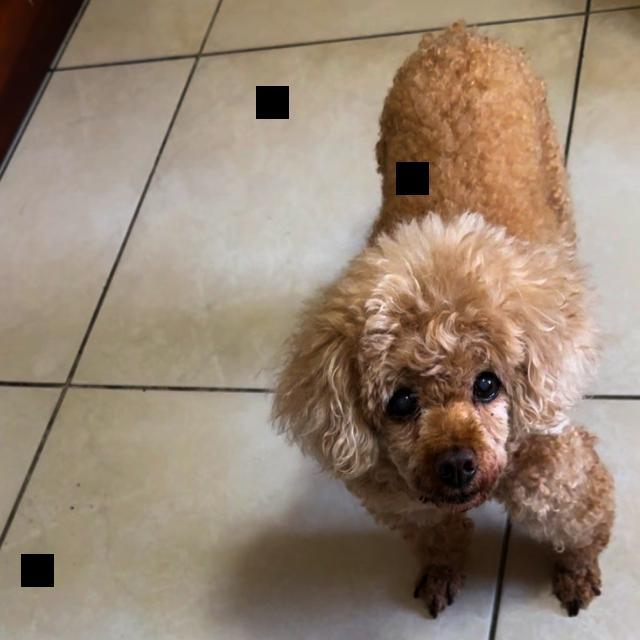adult_dog: (260, 15, 623, 621)
